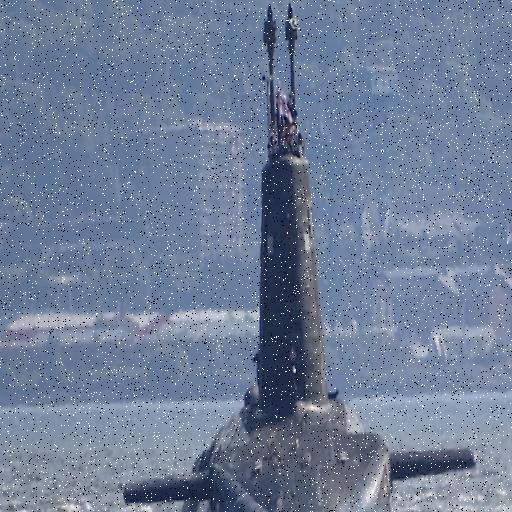submarine: (123, 2, 479, 512)
